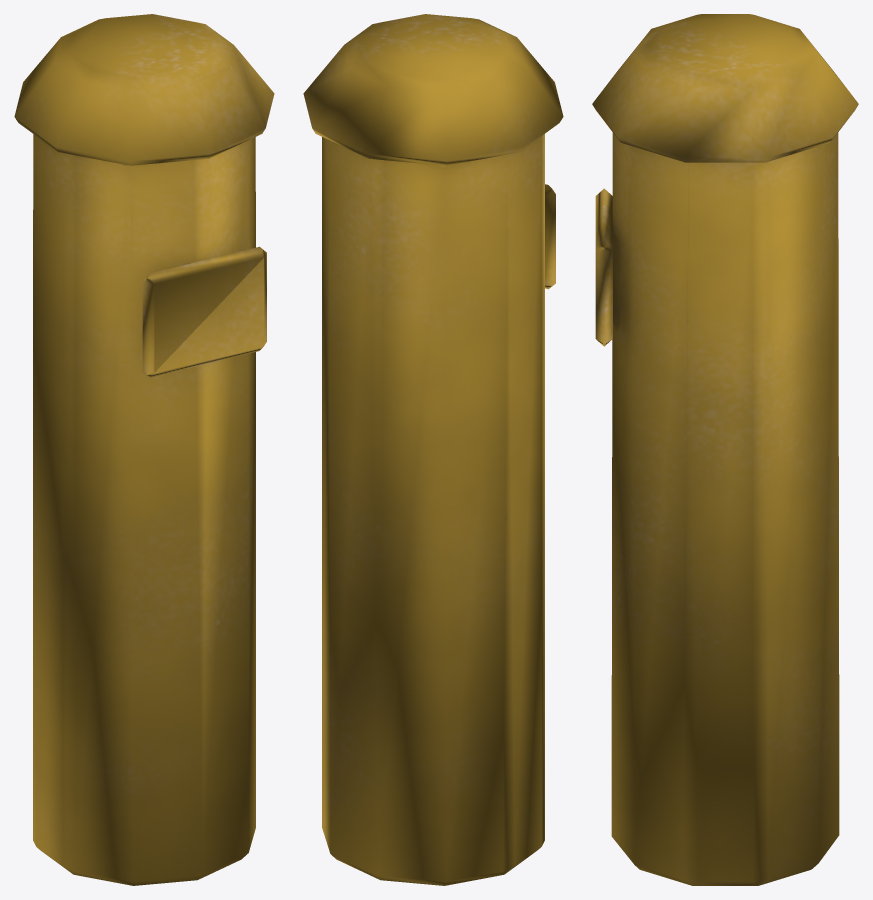
The model's file is Bolardo.fbx.
3 renders of one model, left to right at view 1: azimuth 30°, elevation 25°; view 2: azimuth 150°, elevation 25°; view 3: azimuth 270°, elevation 25°, orthographic.
Visible parts, largest first — view 1: Bolardo; view 2: Bolardo; view 3: Bolardo.
Boxes of the visible parts, x1=… form: Bolardo: x1=14, y1=14, x2=274, y2=885; Bolardo: x1=303, y1=14, x2=563, y2=885; Bolardo: x1=592, y1=14, x2=858, y2=885.
Size of the model in its own units: 0.8791 by 3.05 by 0.9244.
